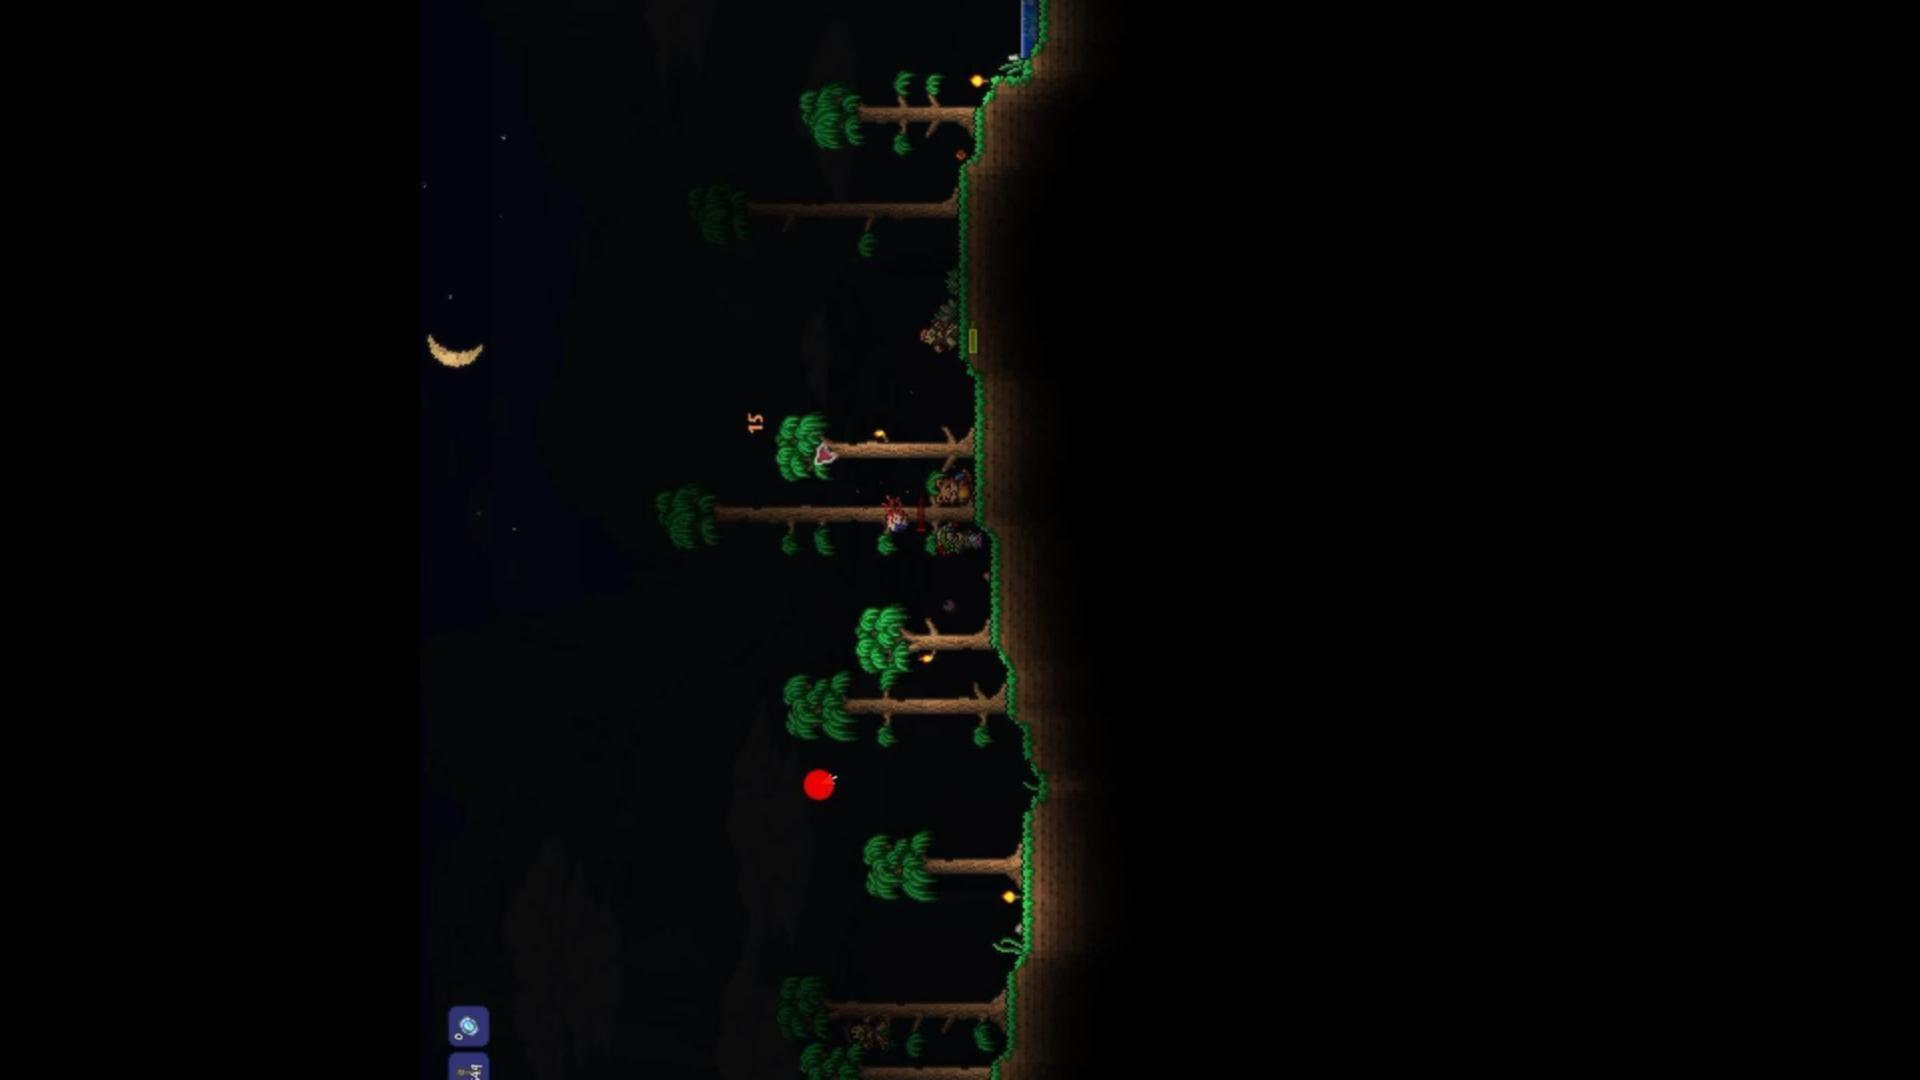eye: (873, 487, 923, 545)
torchT: (993, 876, 1025, 913)
tree: (633, 475, 1022, 550), (773, 669, 1025, 761), (851, 804, 1050, 909), (781, 74, 996, 141), (775, 1043, 1022, 1080)
zombie: (915, 316, 975, 359)
